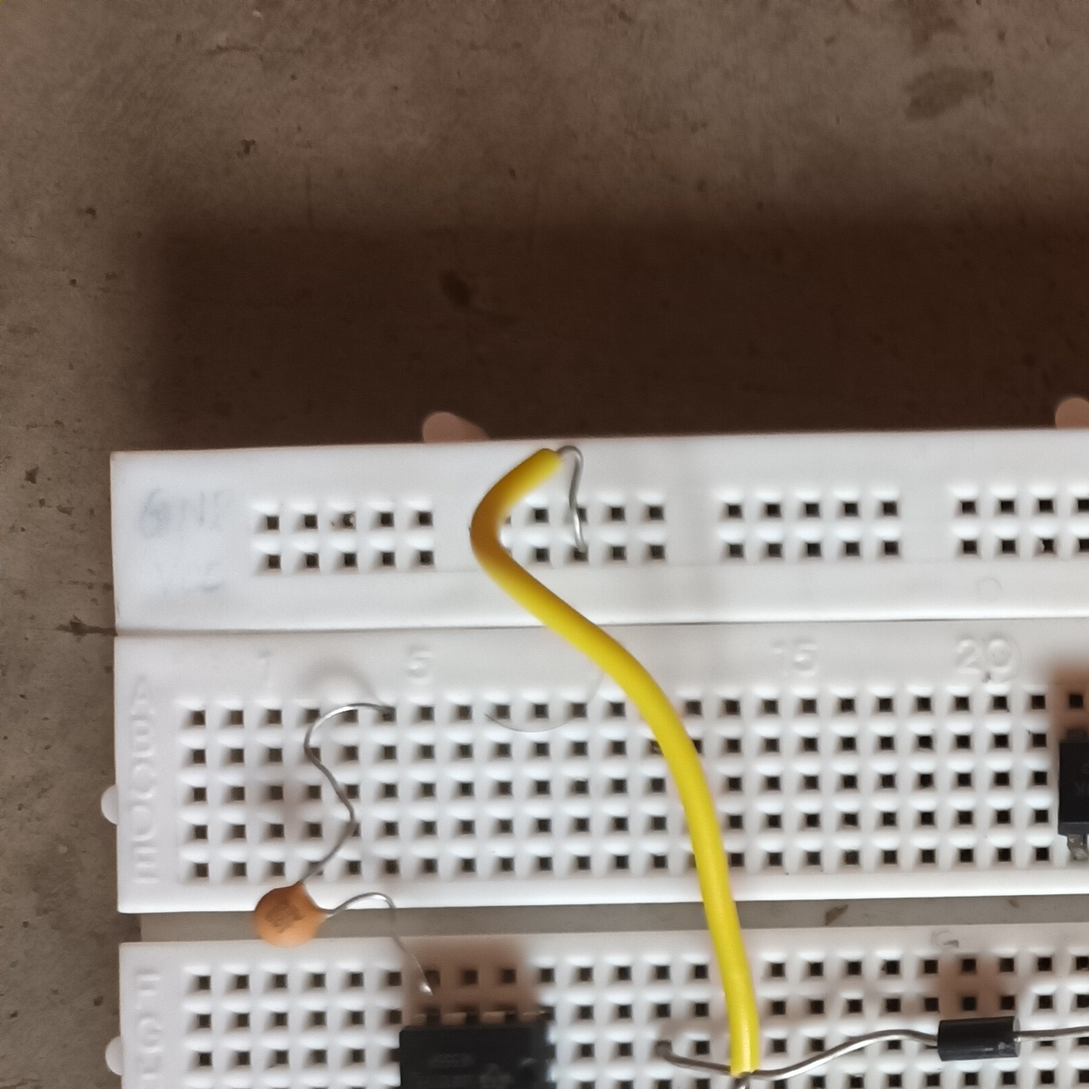capacitor: (249, 881, 331, 951)
